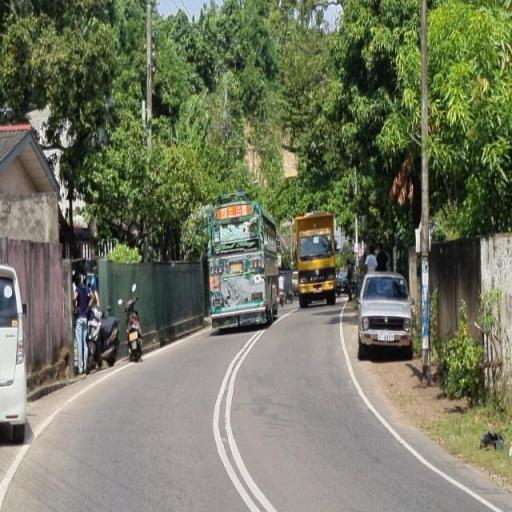double_white_line: (337, 310, 502, 511), (212, 313, 275, 512)
